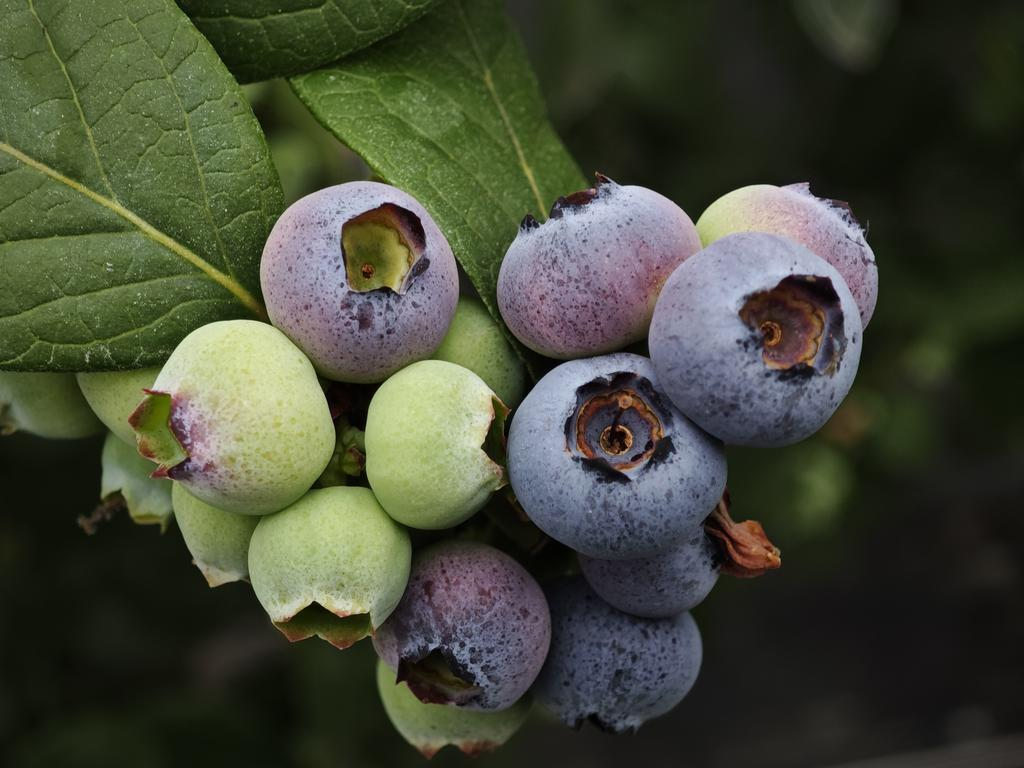RipeBlueBerry: (649, 228, 865, 455), (503, 348, 731, 563)
Semi-RipeBlueBerry: (259, 175, 463, 385), (495, 173, 704, 358)
UnripeBlueBerry: (137, 315, 342, 518), (363, 355, 509, 532)
